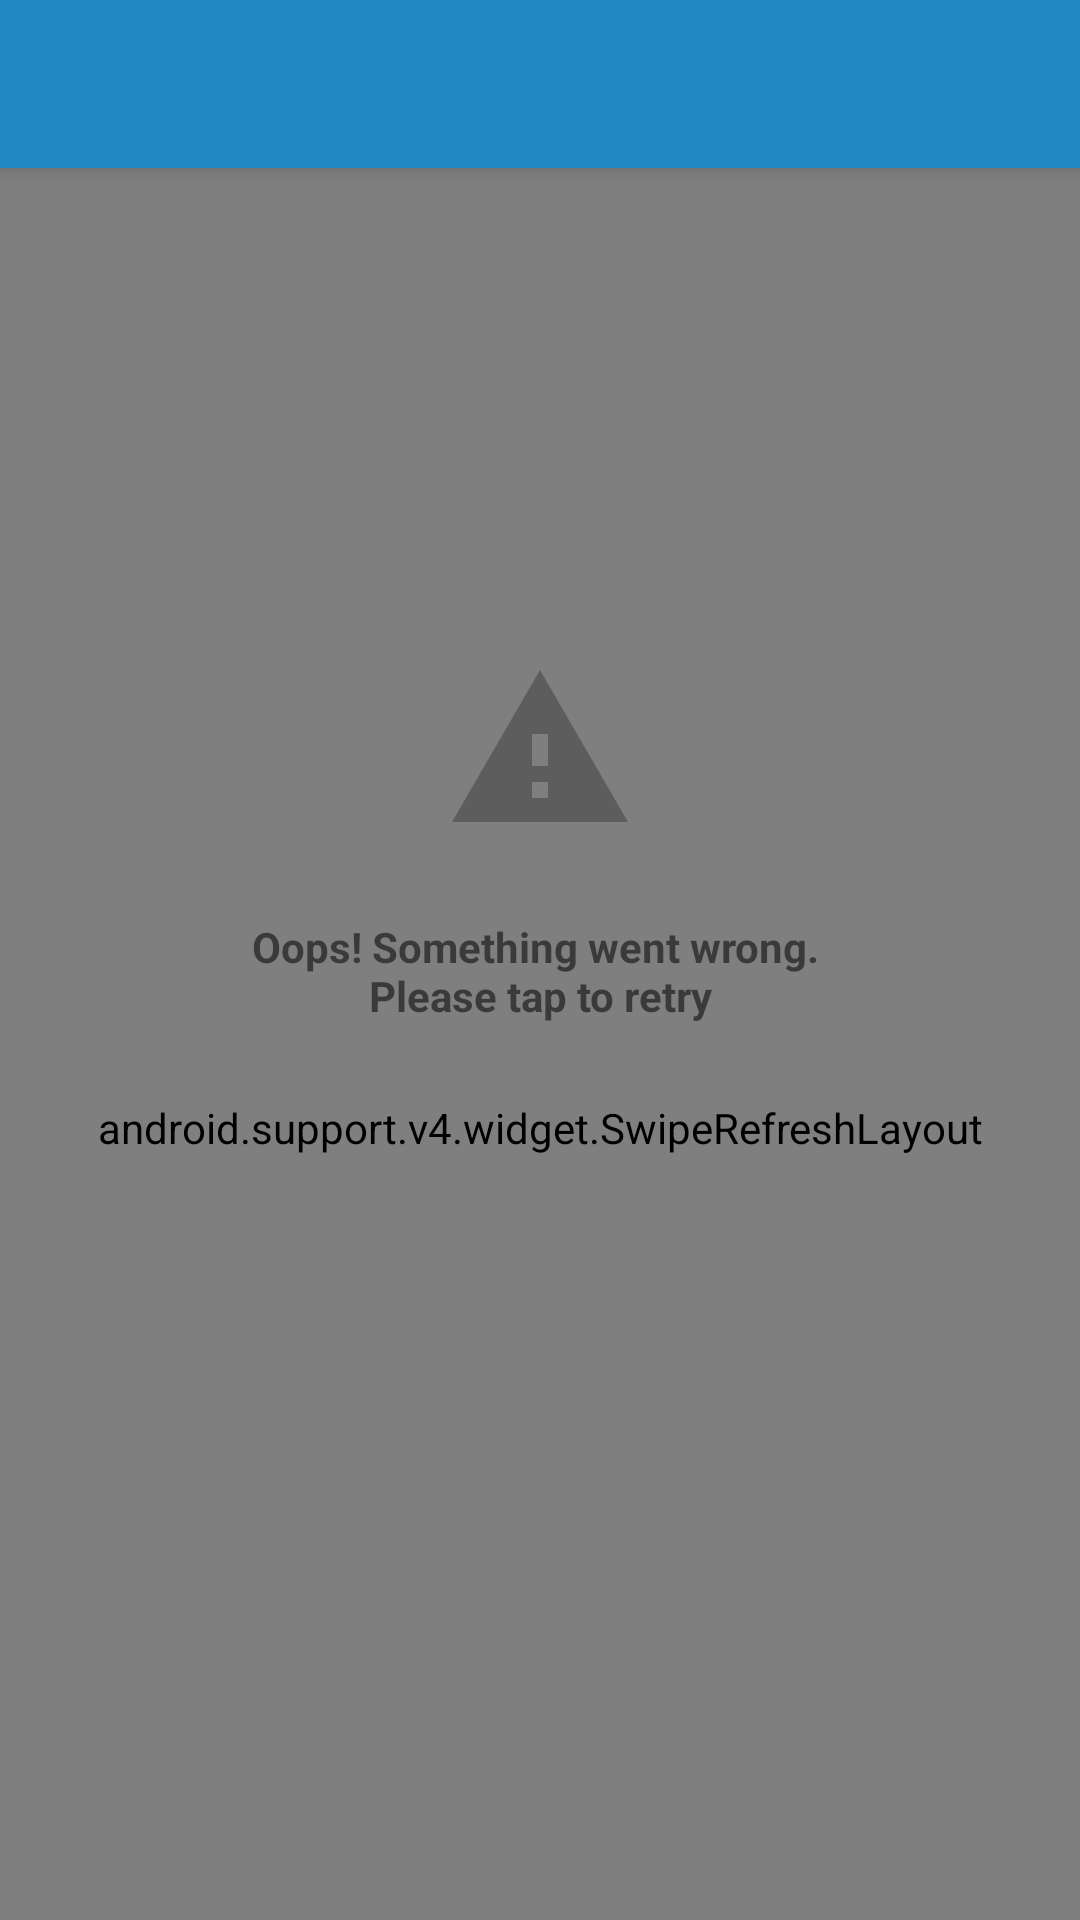

Icons on this 1080px x 1920px Android screen, each with its box as bbox(x1, y1, x2, y2):
report problem: bbox(453, 671, 627, 822)
